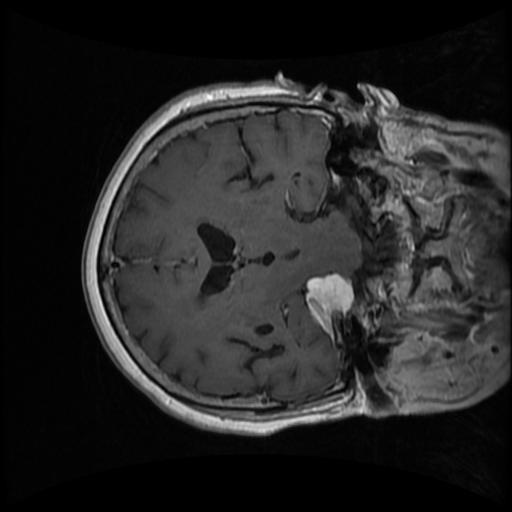meningioma: (304, 271, 353, 340)
